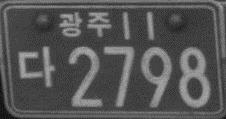1: (143, 9, 155, 41), (120, 9, 131, 39)
2: (67, 44, 104, 110)
7: (101, 45, 135, 110)
8: (177, 44, 211, 110)
9: (139, 45, 173, 107)
광주_O: (59, 10, 112, 39)
다: (17, 45, 56, 87)
